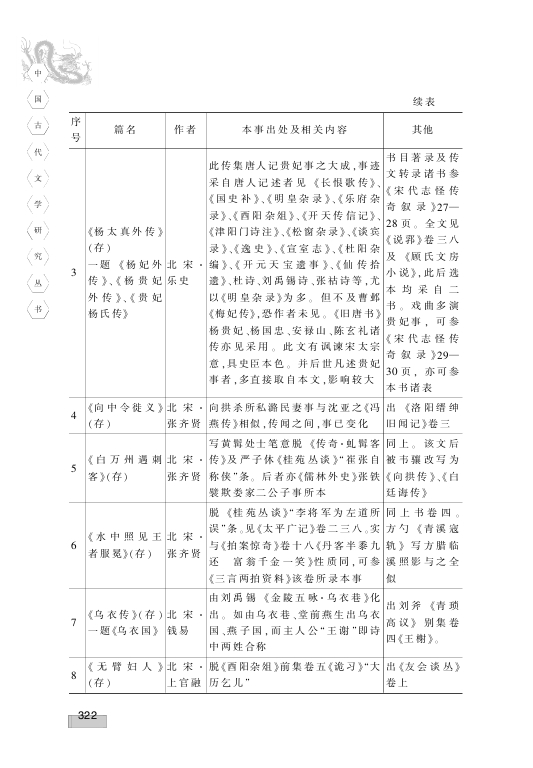table: (68, 111, 460, 693)
